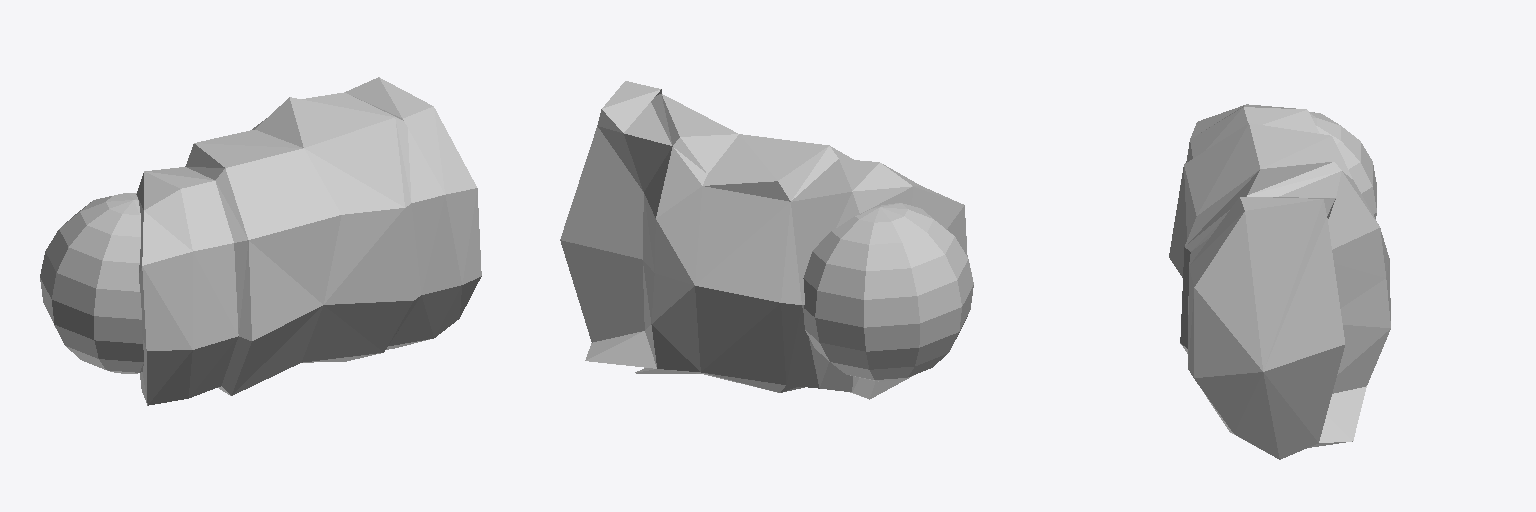
Rendered from LThumb1.obj.
3 renders of one model, left to right at view 1: azimuth 30°, elevation 25°; view 2: azimuth 150°, elevation 25°; view 3: azimuth 270°, elevation 25°, orthographic.
Parts seen in each view (by area): view 1: LThumb1_JULIETTE_AV_BRAS_.086; view 2: LThumb1_JULIETTE_AV_BRAS_.086; view 3: LThumb1_JULIETTE_AV_BRAS_.086.
Boxes of the visible parts, x1,y1,x2,y2 form: LThumb1_JULIETTE_AV_BRAS_.086: [40, 77, 481, 405]; LThumb1_JULIETTE_AV_BRAS_.086: [560, 81, 973, 399]; LThumb1_JULIETTE_AV_BRAS_.086: [1169, 104, 1390, 459].
Size of the model in its own units: 0.2753 by 0.1684 by 0.133.